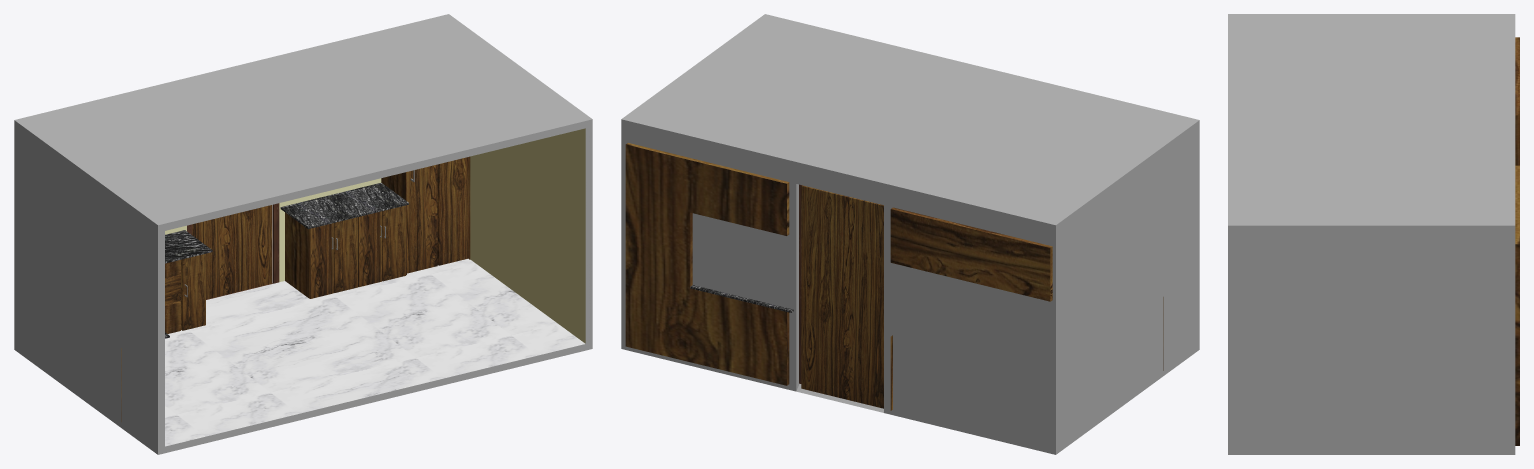
Rendered from modern_house_interior_-_low_poly_archviz_room.glb.
3 views of the same model, side by side, from view 1: azimuth 30°, elevation 25°; view 2: azimuth 150°, elevation 25°; view 3: azimuth 270°, elevation 25° (orthographic).
Parts seen in each view (by area): view 1: polySurface3.001_2, pCube47.001_82, pCube49.001_84, polySurface11.001_7, polySurface10.001_6, pCube22.001_22, pCube9.001_14, pCube11.001_16, pCube10.001_15, pCube12.001_17, polySurface9.001_11, pPipe1.001_30; view 2: polySurface3.001_2, polySurface10.001_6, pCube49.001_84, polySurface6.001_9, pPipe1.001_30; view 3: polySurface3.001_2, polySurface10.001_6, polySurface6.001_9.
Boxes of the visible parts, x1,y1,x2,y2 form: polySurface3.001_2: [14, 14, 592, 454]; pCube47.001_82: [407, 157, 469, 273]; pCube49.001_84: [192, 205, 272, 299]; polySurface11.001_7: [280, 182, 408, 229]; polySurface10.001_6: [285, 156, 470, 298]; pCube22.001_22: [181, 253, 205, 330]; pCube9.001_14: [310, 223, 333, 298]; pCube11.001_16: [358, 211, 381, 287]; pCube10.001_15: [334, 217, 357, 292]; pCube12.001_17: [382, 205, 405, 281]; polySurface9.001_11: [165, 230, 212, 338]; pPipe1.001_30: [187, 203, 279, 299]; polySurface3.001_2: [621, 14, 1199, 454]; polySurface10.001_6: [625, 143, 789, 385]; pCube49.001_84: [801, 185, 883, 408]; polySurface6.001_9: [890, 207, 1052, 301]; pPipe1.001_30: [799, 184, 801, 383]; polySurface3.001_2: [1228, 14, 1515, 454]; polySurface10.001_6: [1515, 165, 1519, 445]; polySurface6.001_9: [1515, 37, 1519, 165].
Size of the model in its own units: 4.83 by 2.44 by 2.81.
Materials: 14 (6 with a texture image).
